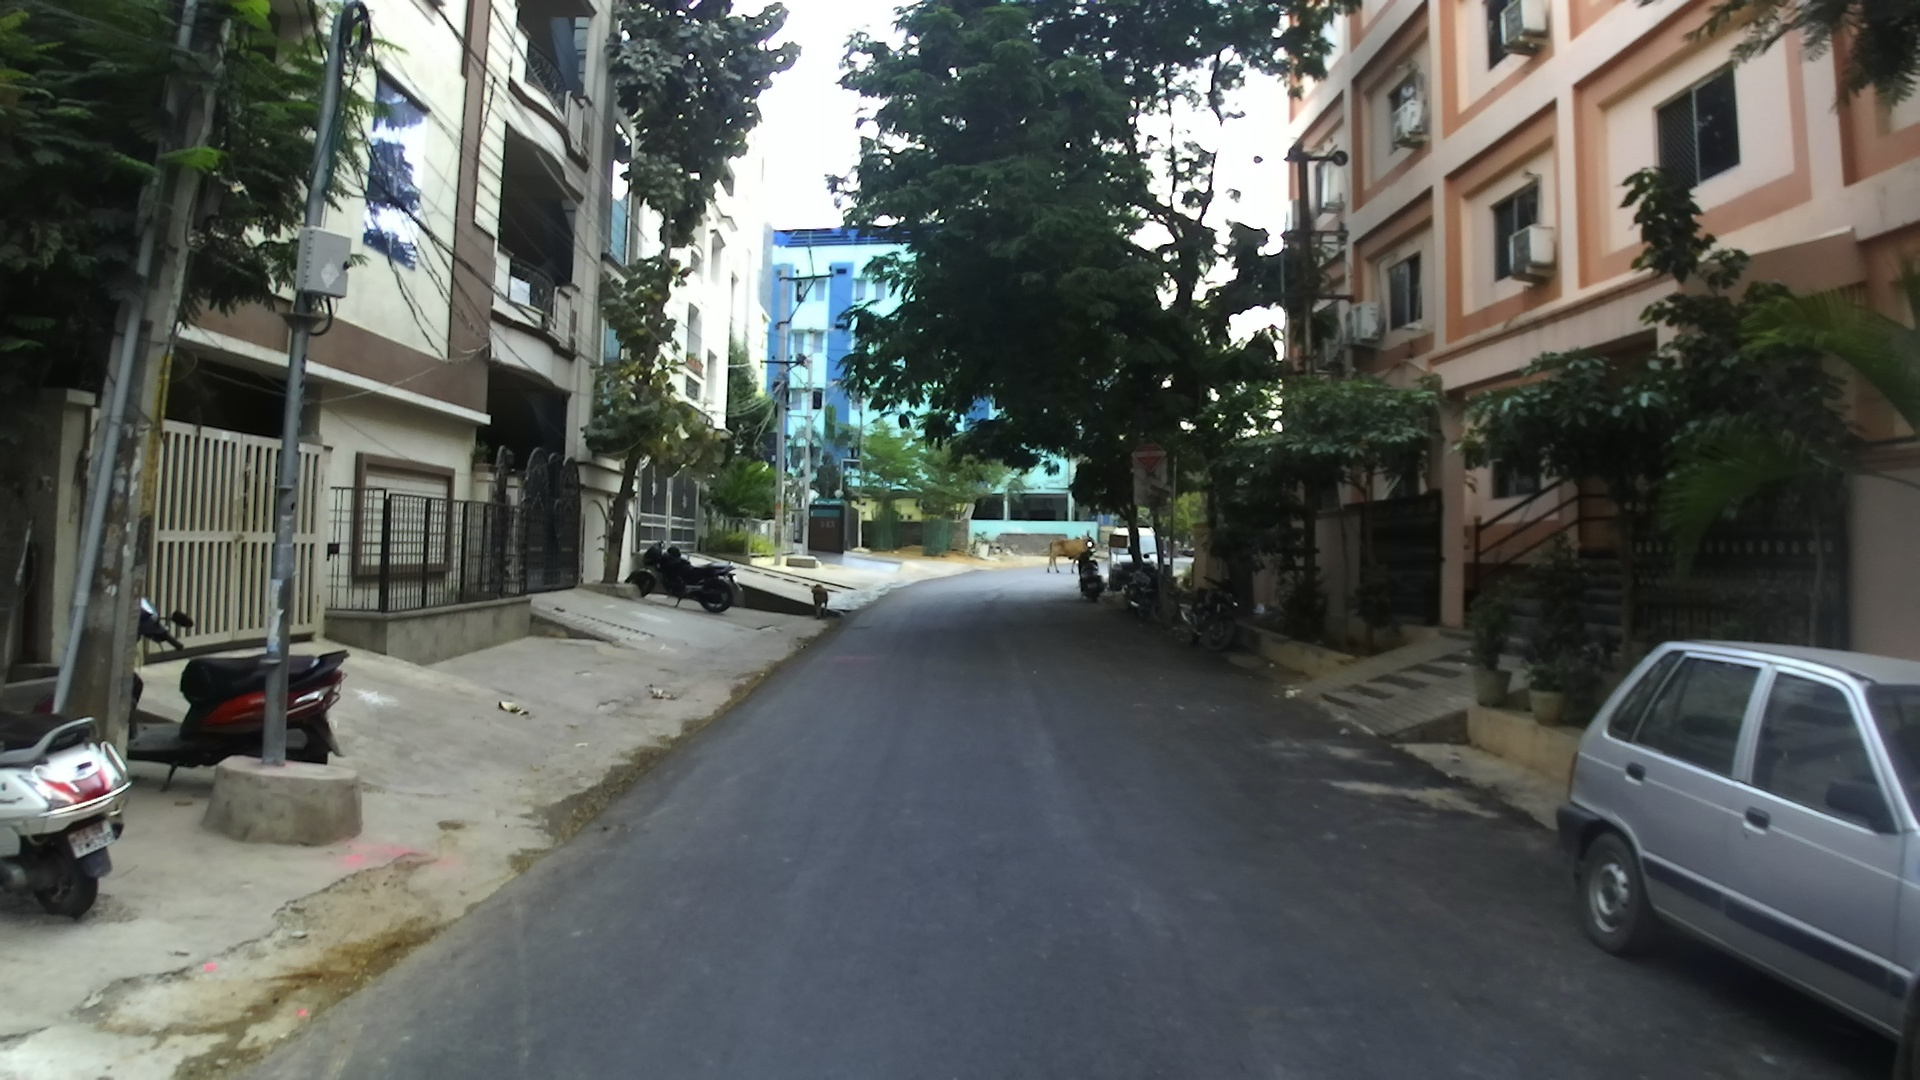vehicle: (1556, 637, 1919, 1062), (0, 705, 132, 920), (626, 546, 738, 612)
